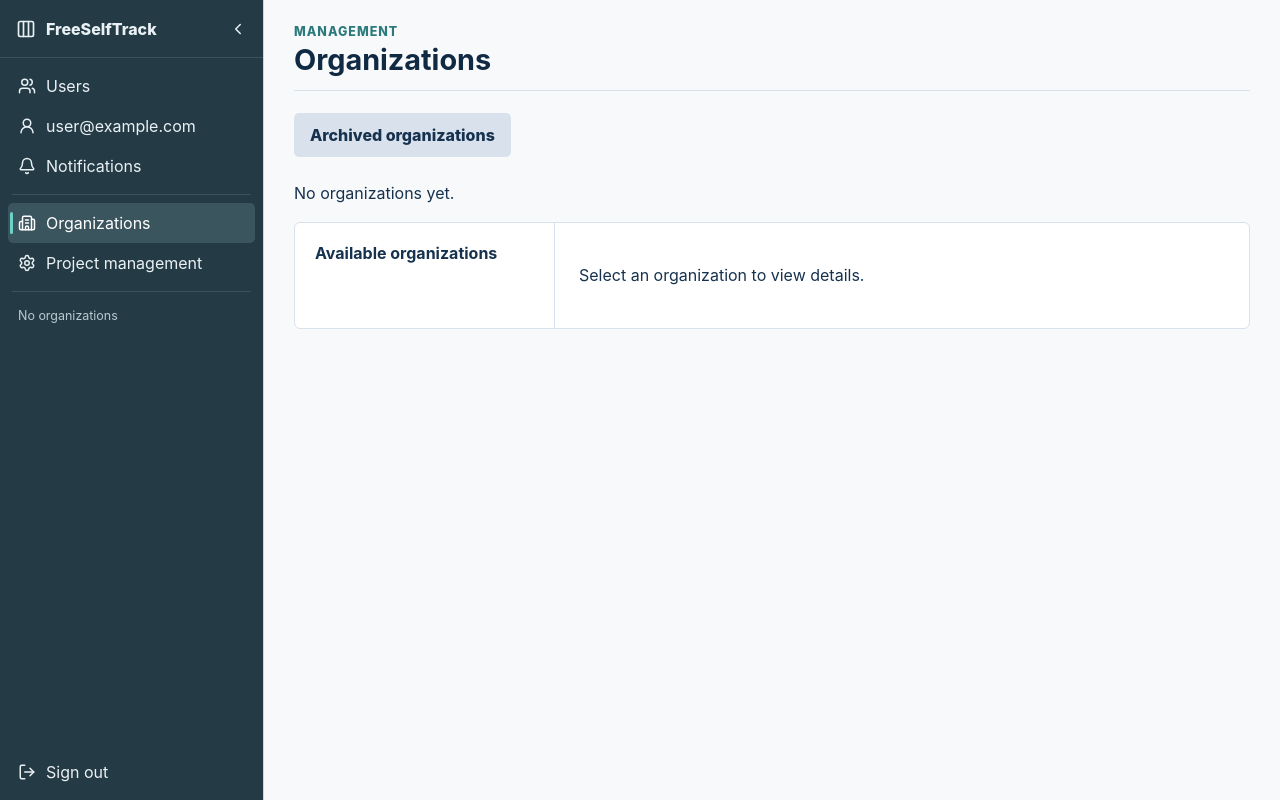
Test: waits for logout success and shows a recoverable logout failure
Expected: the heading "Organizations" is shown, [294, 42, 491, 77]
What coordinates should you click on to do the following:
click the button "Sign out"
I would click on:
 (132, 772)
Its box is [8, 752, 255, 792].
(page scrolled)
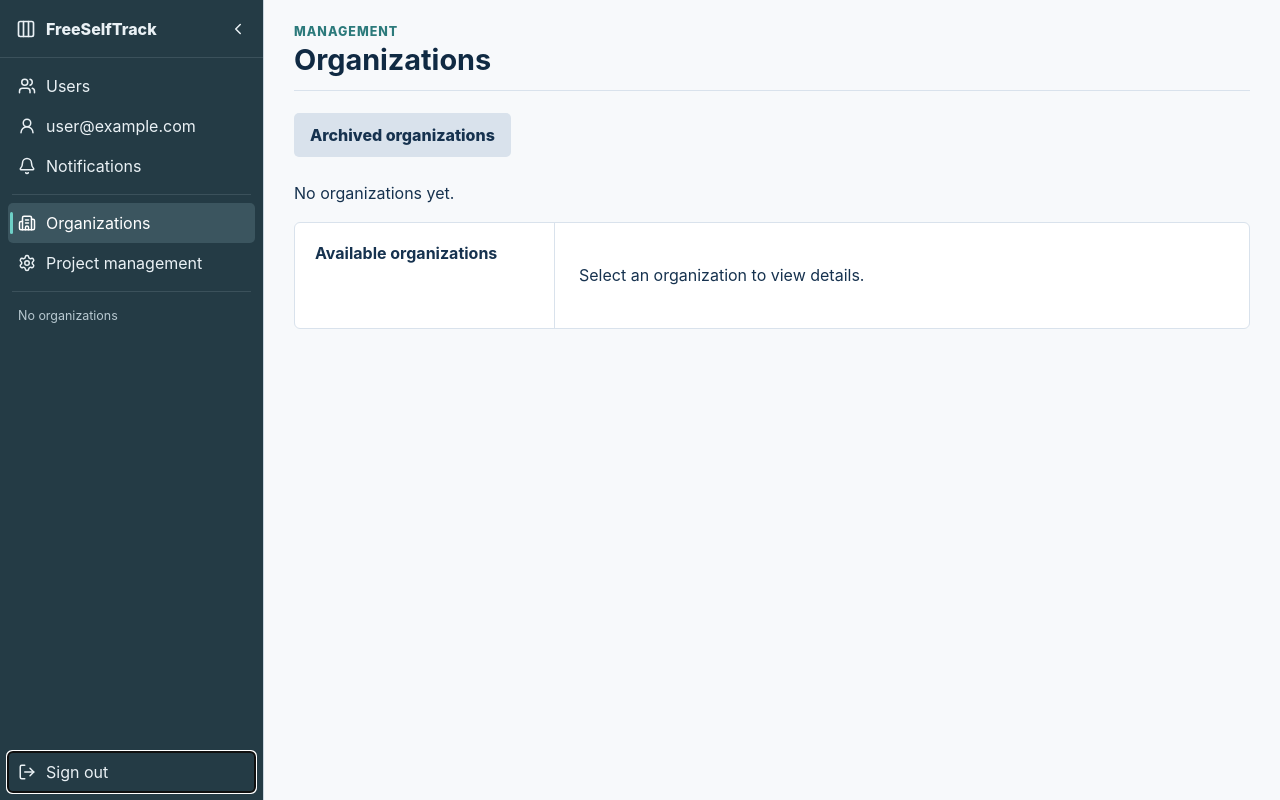
Expected: the heading "Organizations" is shown, [294, 42, 491, 77]
What coordinates should you click on to do the following:
click the button "Sign out"
I would click on:
 (132, 772)
Its box is [8, 752, 255, 792].
(page scrolled)
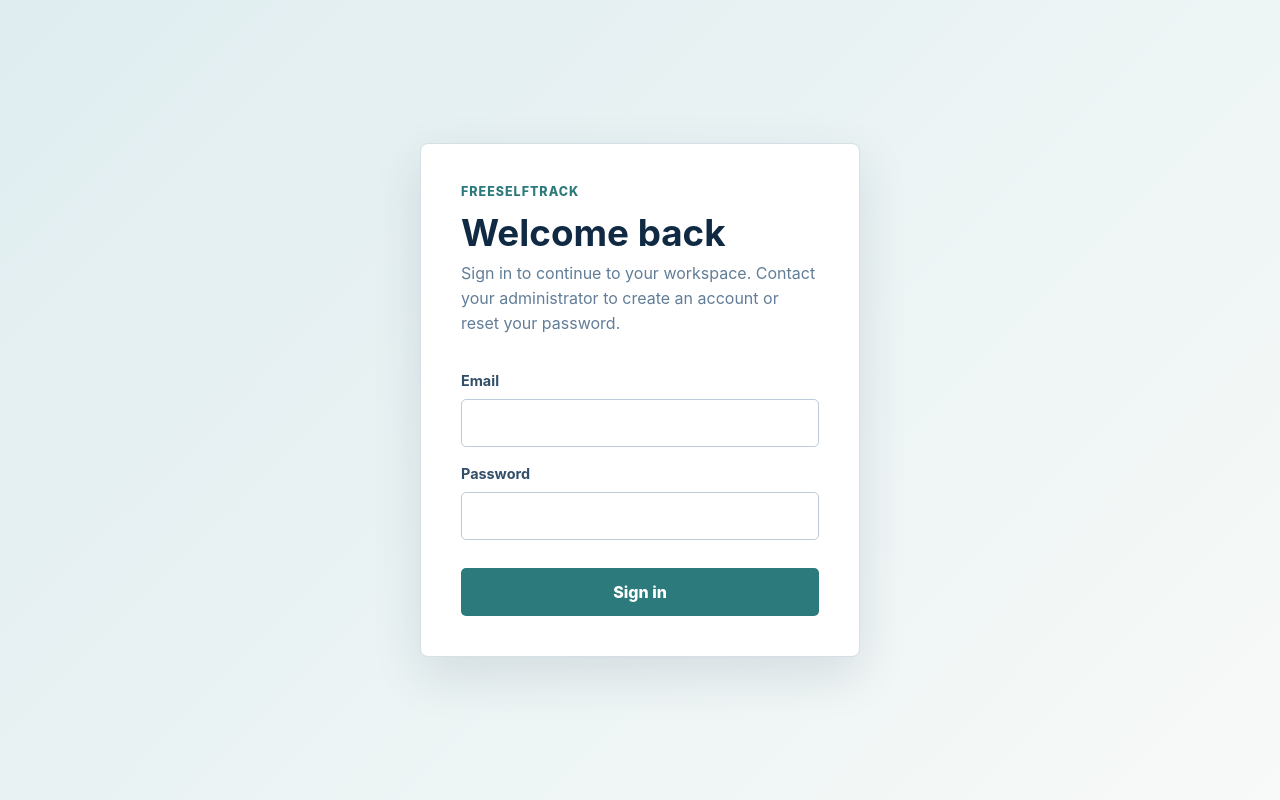
Now the heading "Welcome back" is shown, box [461, 210, 726, 255]
